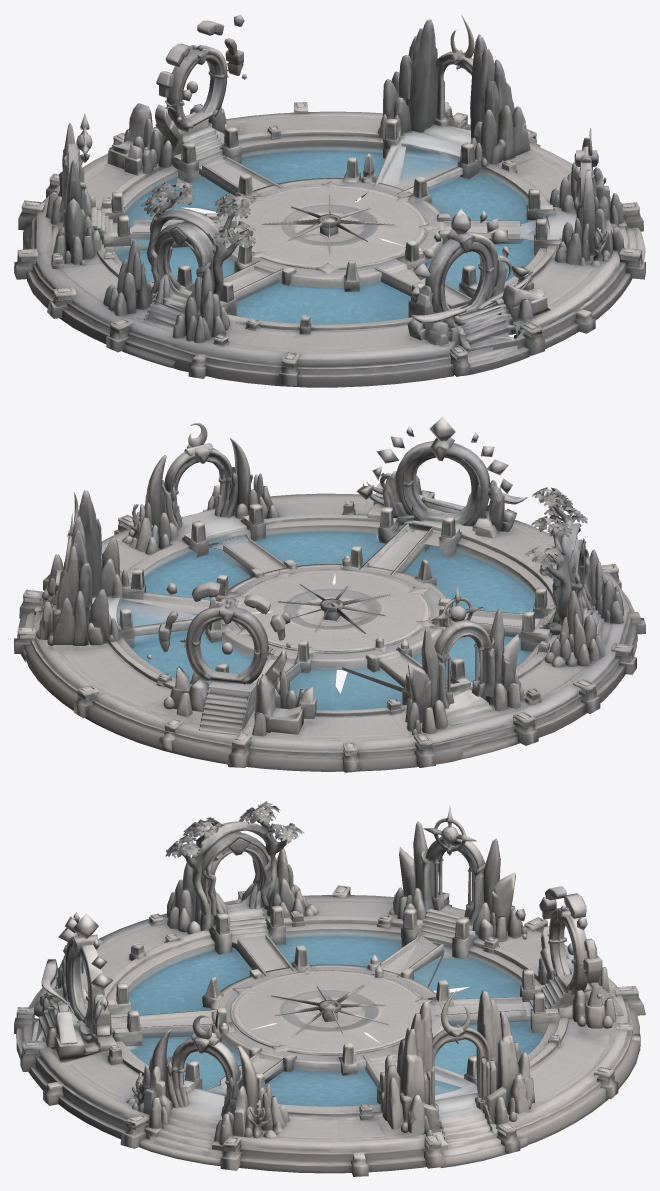
The model's file is nexus.glb.
3 renders of one model, top to bottom at view 1: azimuth 30°, elevation 25°; view 2: azimuth 150°, elevation 25°; view 3: azimuth 270°, elevation 25°, orthographic.
Visible parts, largest first — view 1: ce3ffca4_8206_40b6_80f3_3872aa221acf; view 2: ce3ffca4_8206_40b6_80f3_3872aa221acf; view 3: ce3ffca4_8206_40b6_80f3_3872aa221acf.
Part boxes in pixels (<box>): ce3ffca4_8206_40b6_80f3_3872aa221acf: <box>14,14,645,387</box>; ce3ffca4_8206_40b6_80f3_3872aa221acf: <box>14,416,645,772</box>; ce3ffca4_8206_40b6_80f3_3872aa221acf: <box>14,801,645,1176</box>.
Size of the model in its own units: 0.9995 by 0.2622 by 0.9995.
Materials: 1 (1 with a texture image).
